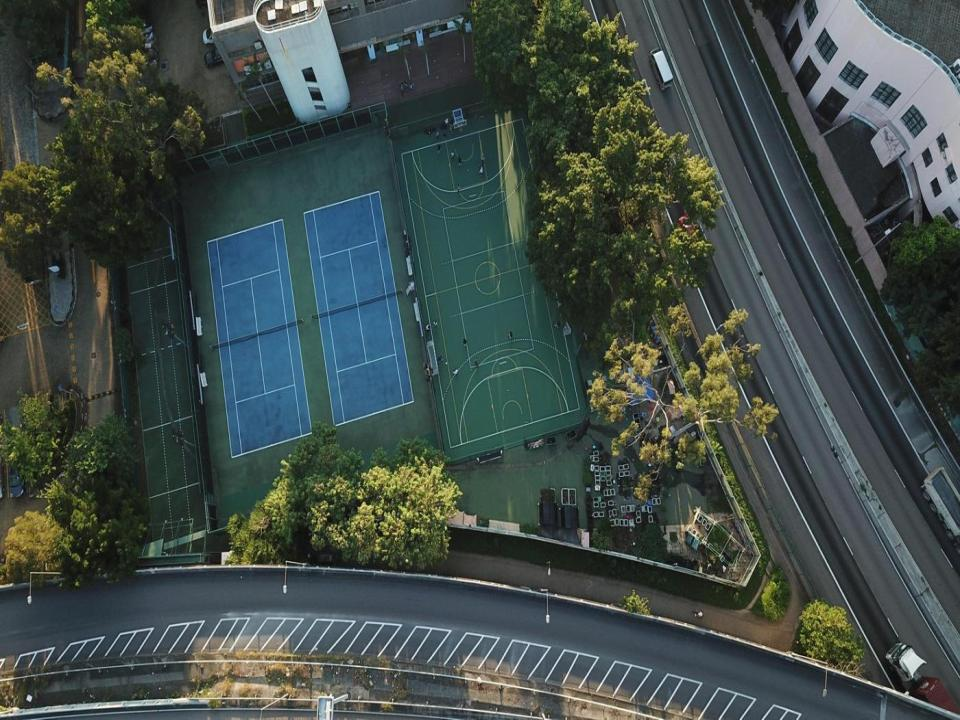car: (678, 213, 699, 249), (8, 457, 26, 499), (204, 46, 231, 68), (202, 26, 235, 43)
truck: (885, 642, 958, 719)
van: (650, 48, 674, 90)
